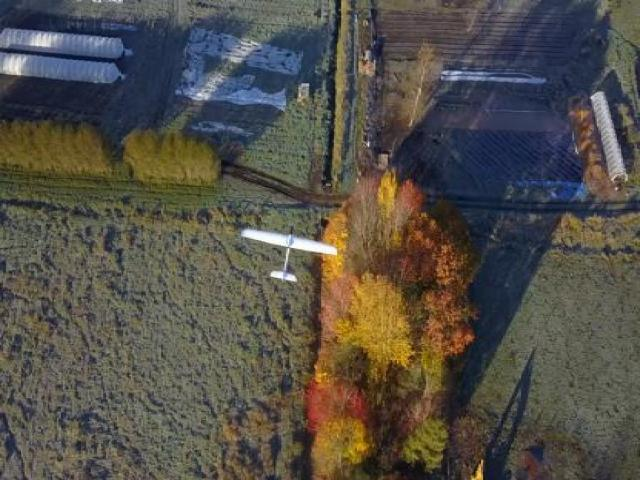uav: (234, 218, 344, 283)
